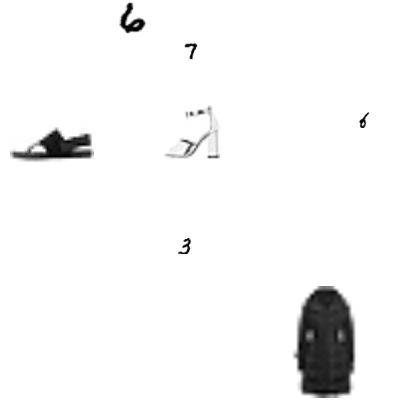3: (175, 235, 197, 257)
6: (109, 0, 151, 42), (352, 110, 374, 132)
7: (180, 38, 202, 60)
Coat: (270, 286, 382, 398)
Sandal: (10, 101, 94, 185), (164, 104, 220, 160)
